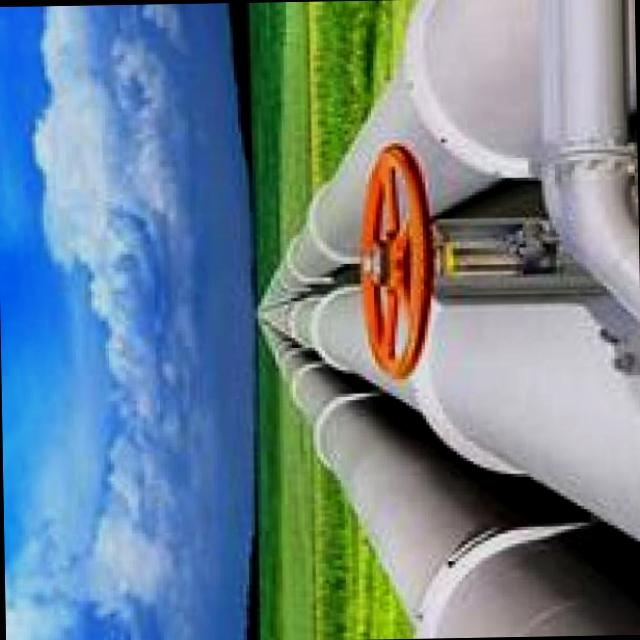gas: (262, 0, 640, 323), (263, 326, 640, 638), (283, 287, 640, 540)
